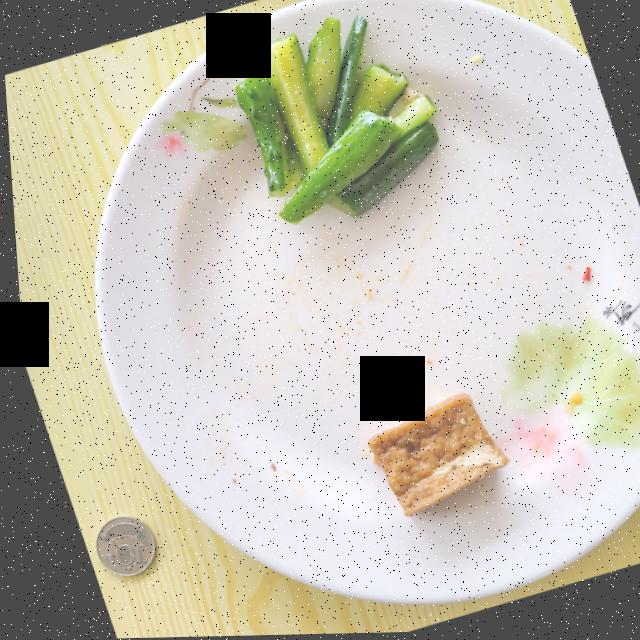coin: (88, 515, 148, 576)
cucumber: (233, 17, 436, 224)
egg tofu: (362, 394, 502, 517)
